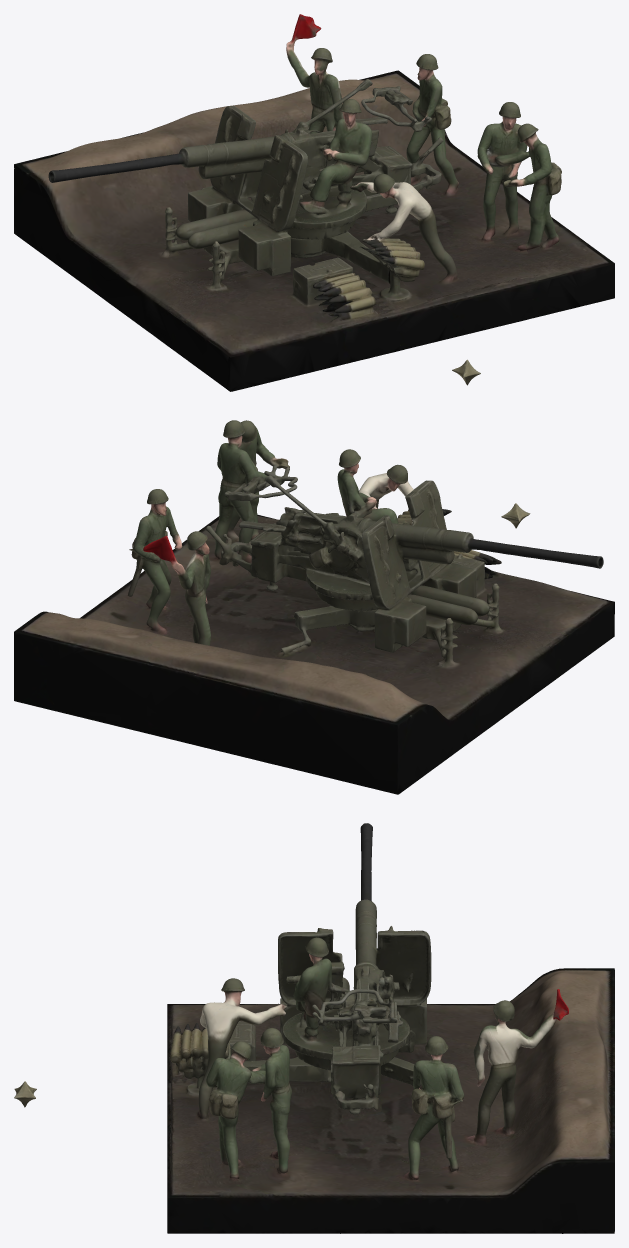
Rendered from ban_pha_phao_dai_bay_b52.glb.
3 views of the same model, one above another, from view 1: azimuth 30°, elevation 25°; view 2: azimuth 150°, elevation 25°; view 3: azimuth 270°, elevation 25° (orthographic). The views are drawn at different scales.
Size of the model in its own units: 1.76 by 0.6931 by 1.9.
Materials: 1 (1 with a texture image).
